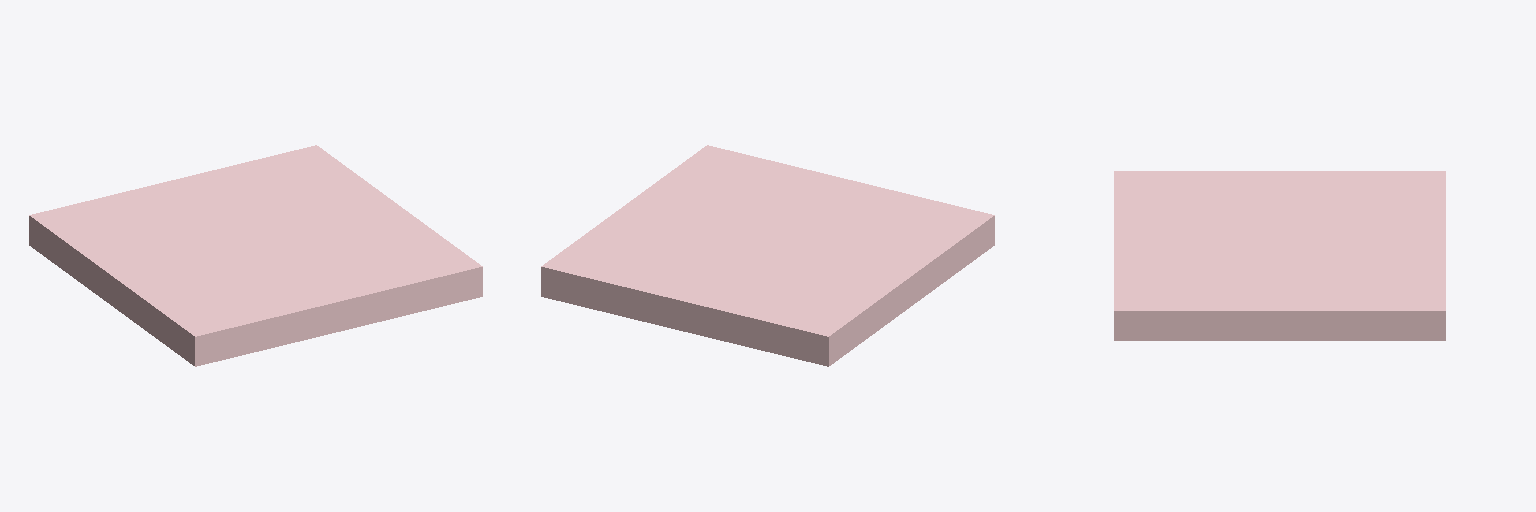
File: terrain.obj
The picture shows the model from 3 angles: view 1: azimuth 30°, elevation 25°; view 2: azimuth 150°, elevation 25°; view 3: azimuth 270°, elevation 25°; orthographic projection.
Parts seen in each view (by area): view 1: Plane_Plane.001; view 2: Plane_Plane.001; view 3: Plane_Plane.001.
Boxes of the visible parts, x1,y1,x2,y2 form: Plane_Plane.001: [29, 145, 482, 366]; Plane_Plane.001: [541, 145, 994, 366]; Plane_Plane.001: [1114, 171, 1445, 340].
Size of the model in its own units: 200 by 20 by 200.